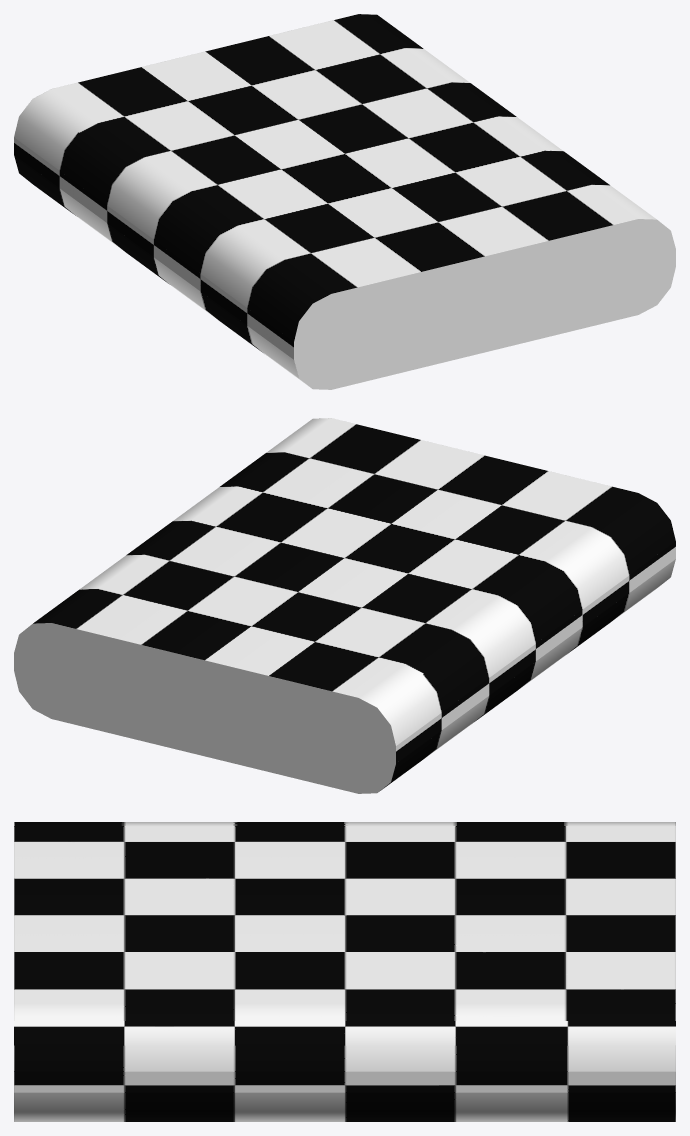
The model's file is Finish.fbx.
3 renders of one model, top to bottom at view 1: azimuth 30°, elevation 25°; view 2: azimuth 150°, elevation 25°; view 3: azimuth 270°, elevation 25°, orthographic. The views are drawn at different scales.
Parts seen in each view (by area): view 1: Finish; view 2: Finish; view 3: Finish.
Boxes of the visible parts, x1,y1,x2,y2 form: Finish: (14, 14, 675, 389); Finish: (14, 418, 675, 793); Finish: (14, 822, 675, 1121).
Size of the model in its own units: 12.28 by 2.95 by 15.59.
Materials: 2 (1 with a texture image).
